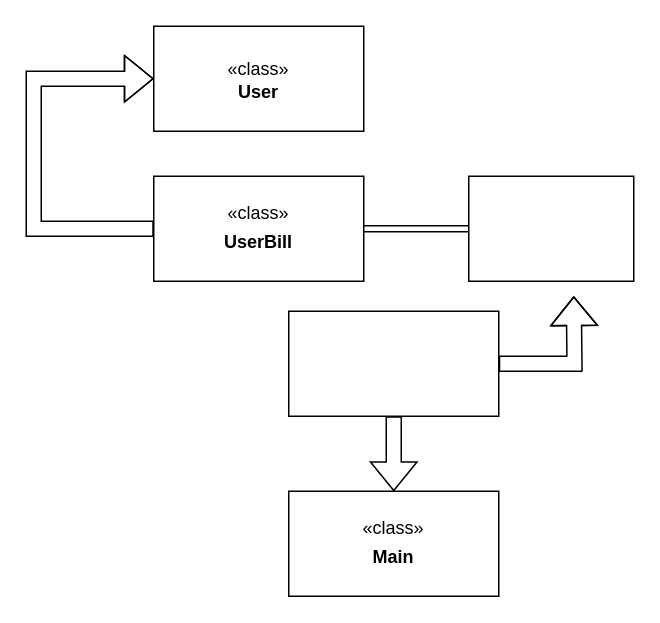
This 660x623 diagram has some shape labels left out. Here are the shapes that lost their labels. From the top down, the centre of each, then its label:
At [550,228]: "«interface» Bill".
At [393,363]: "«class» ClientBill".
